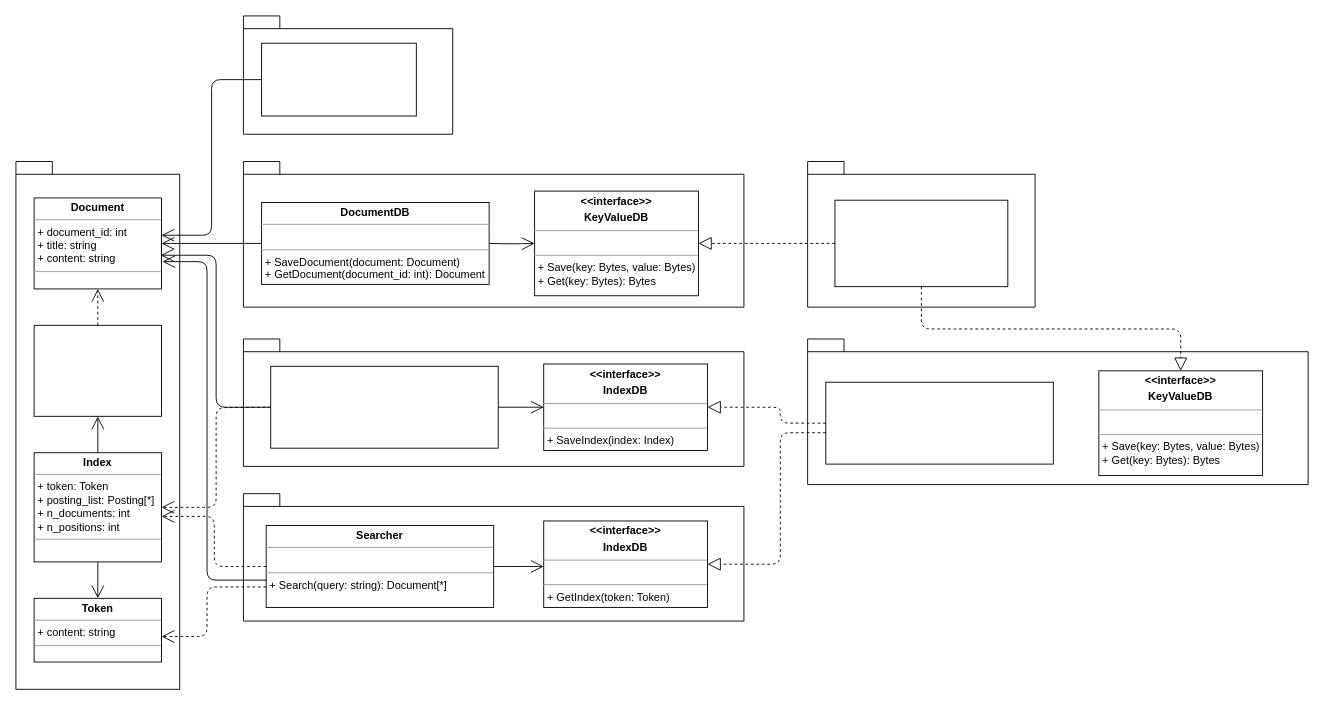
This 1324x705 diagram has some shape labels left out. Here are the shapes that lost their labels. From the top down, the centre of each, then its label:
(x=338, y=79): Loader + GetDocument(): Document
(x=921, y=243): RocksDB + Save(key: Bytes, value: Bytes) + Get(key: Bytes): Bytes
(x=97, y=370): Posting + document_id: int + positions: int[*] + n_position: int
(x=384, y=406): Indexer + AddDocument(document: Document) + SaveAllIndices()
(x=939, y=422): IndexDB + SaveIndex(index: Index) + GetIndex(token: Token): Index
